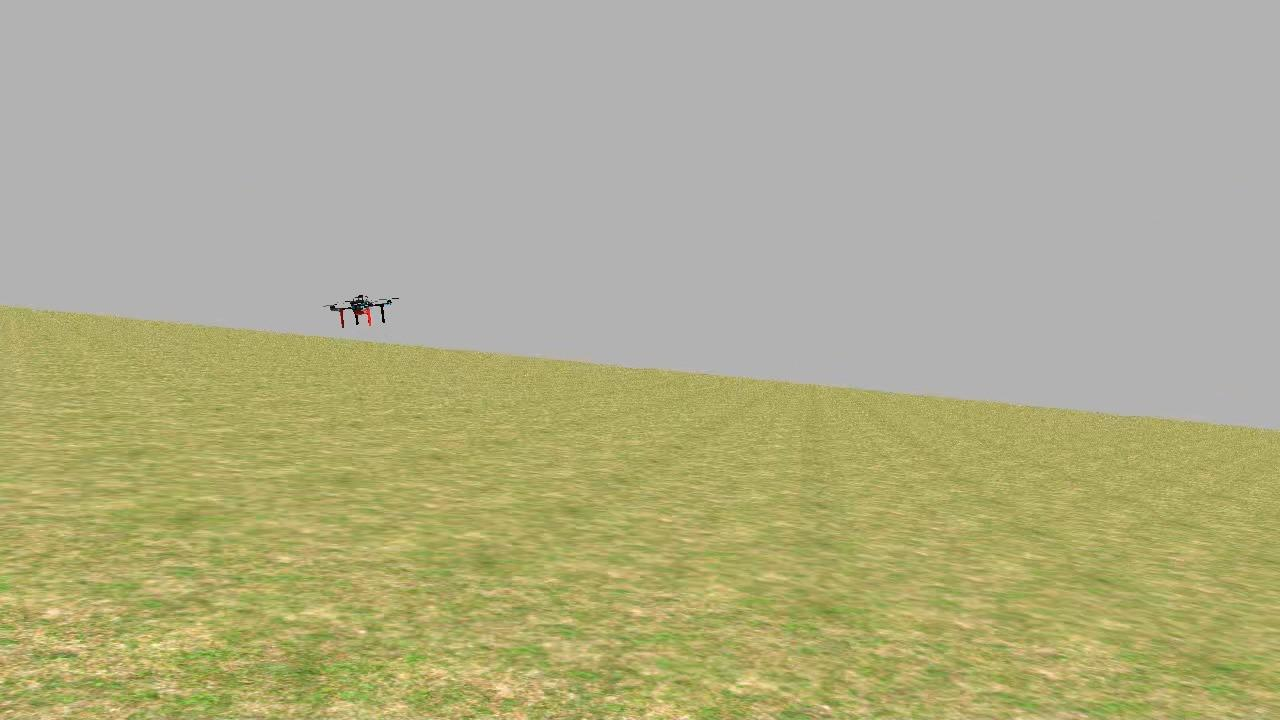UAV: (323, 284, 393, 338)
